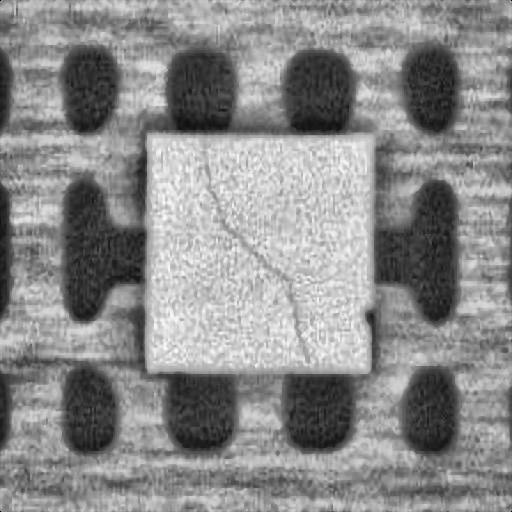DIE_CRACK: (200, 140, 307, 360)
